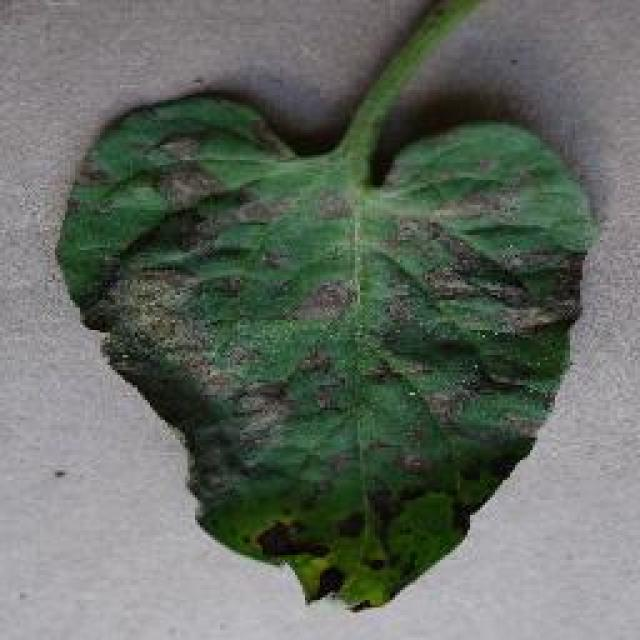Tomato___Early_blight: (54, 0, 597, 615)
